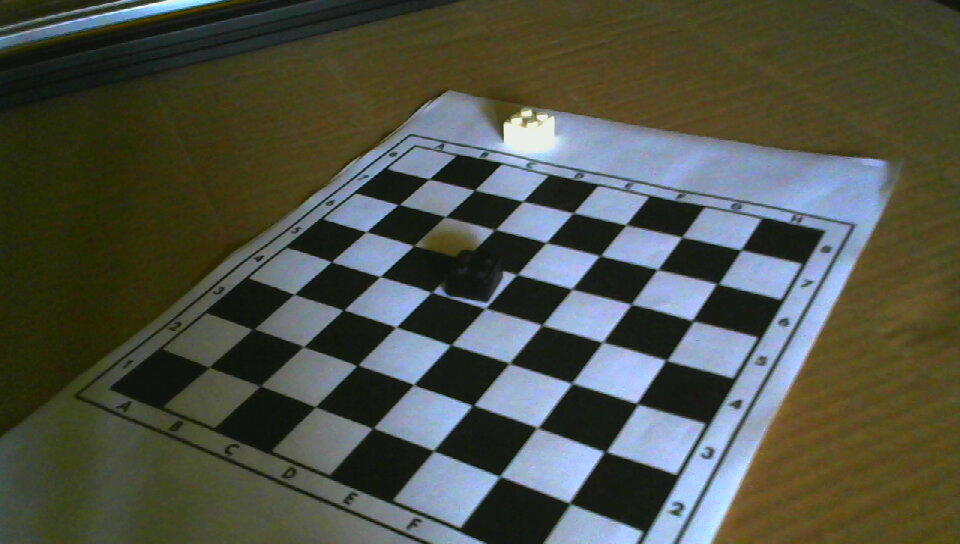bp: (445, 249, 504, 303)
wp: (503, 106, 557, 153)
